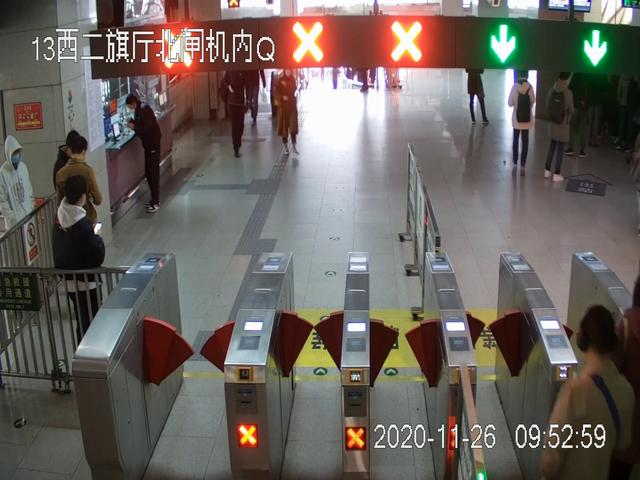person: (542, 306, 640, 480), (54, 177, 106, 358), (57, 138, 103, 255), (124, 94, 163, 214), (1, 135, 34, 274), (507, 69, 536, 177), (545, 72, 572, 182), (272, 67, 301, 156), (222, 71, 247, 157), (464, 63, 491, 126)
